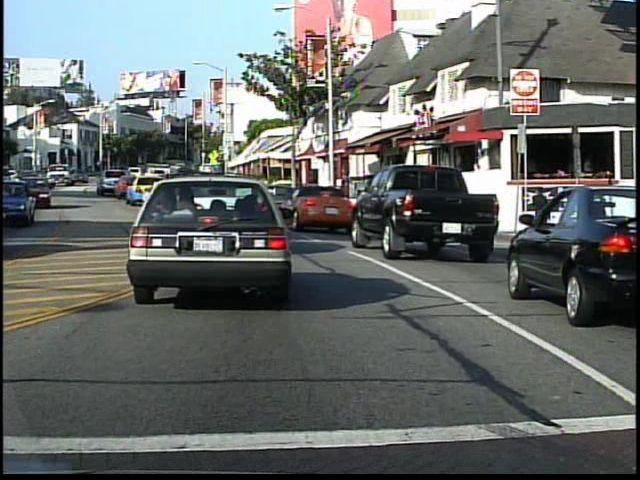car: (135, 152, 290, 316), (493, 190, 640, 317), (353, 161, 504, 264), (288, 188, 356, 232), (1, 178, 37, 227), (28, 177, 50, 206)
